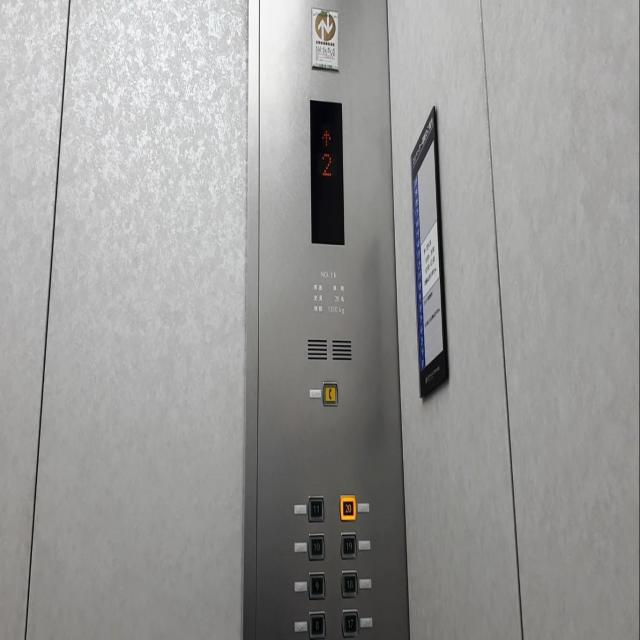10: (307, 532, 326, 562)
11: (307, 494, 326, 524)
17: (341, 608, 359, 638)
18: (340, 568, 358, 598)
19: (339, 530, 357, 560)
20: (338, 492, 357, 522)
8: (308, 609, 326, 639)
9: (307, 570, 326, 600)
call: (320, 379, 340, 408)
led: (308, 95, 346, 248)
